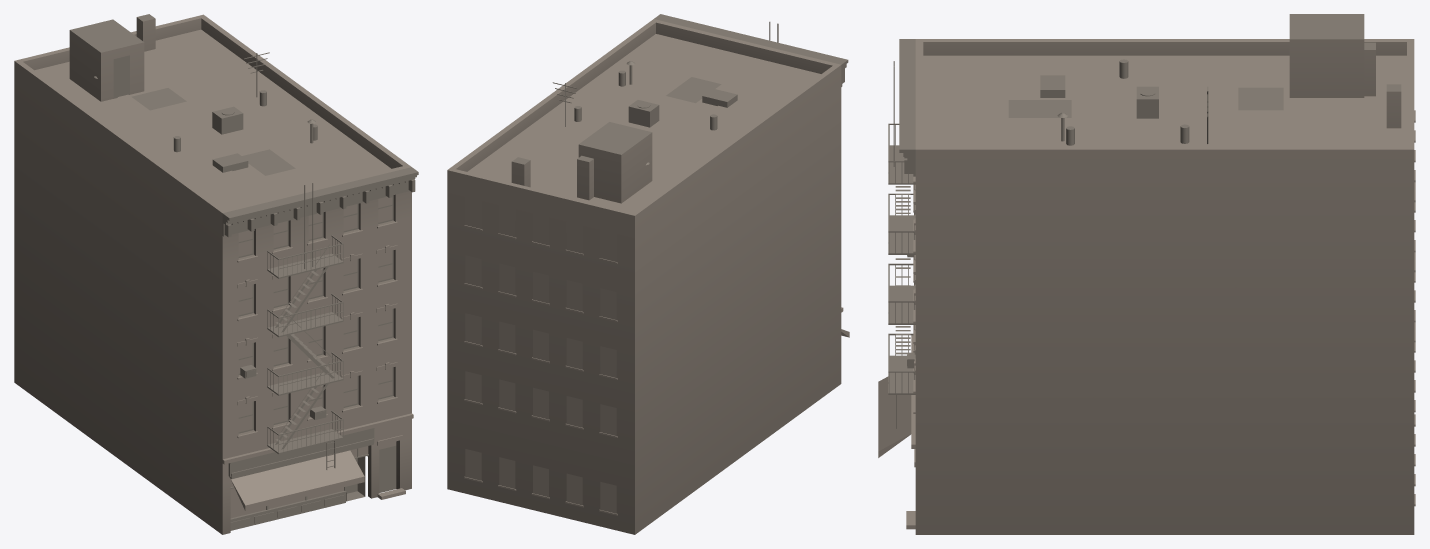
File: biz_trattoria_napoli.glb
3 views of the same model, side by side, from view 1: azimuth 30°, elevation 25°; view 2: azimuth 150°, elevation 25°; view 3: azimuth 270°, elevation 25° (orthographic). The views are drawn at different scales.
Parts seen in each view (by area): view 1: biz_trattoria_napoli; view 2: biz_trattoria_napoli; view 3: biz_trattoria_napoli.
Boxes of the visible parts, <box> form: biz_trattoria_napoli: <box>14,14,418,534</box>; biz_trattoria_napoli: <box>447,14,849,534</box>; biz_trattoria_napoli: <box>878,14,1415,534</box>.
Size of the model in its own units: 10.5 by 19.05 by 21.55.
